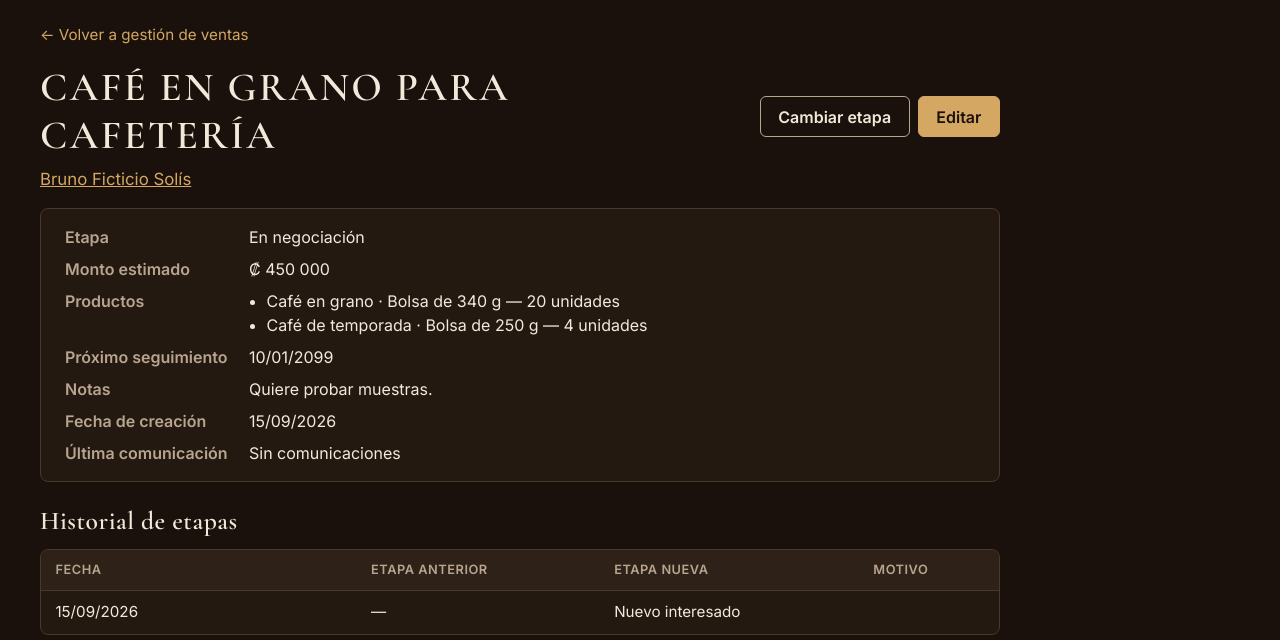
Test: HU-309 Editar una oportunidad de venta › al guardar muestra "Cambios guardados correctamente." y vuelve al detalle ya actualizado
Click the button "Editar": (959, 117) top-left (918, 96), bottom-right (1000, 137)
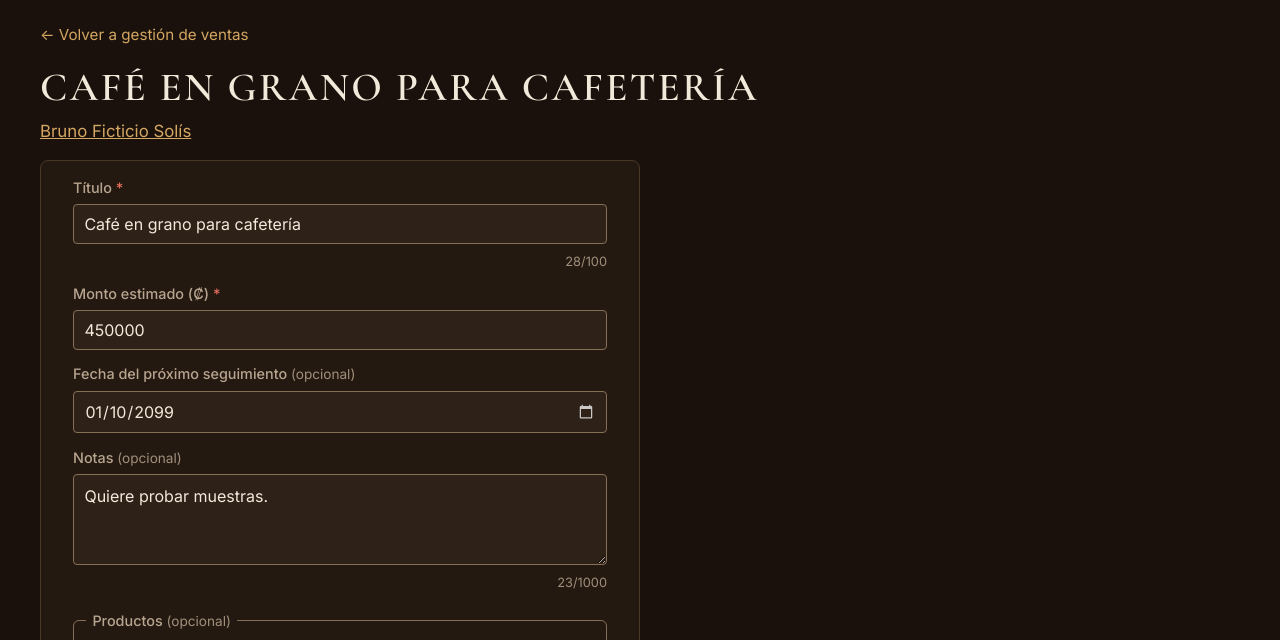
Replace the text in the field labelled "Título *" with "Título nuevo": (340, 224) top-left (73, 204), bottom-right (607, 244)
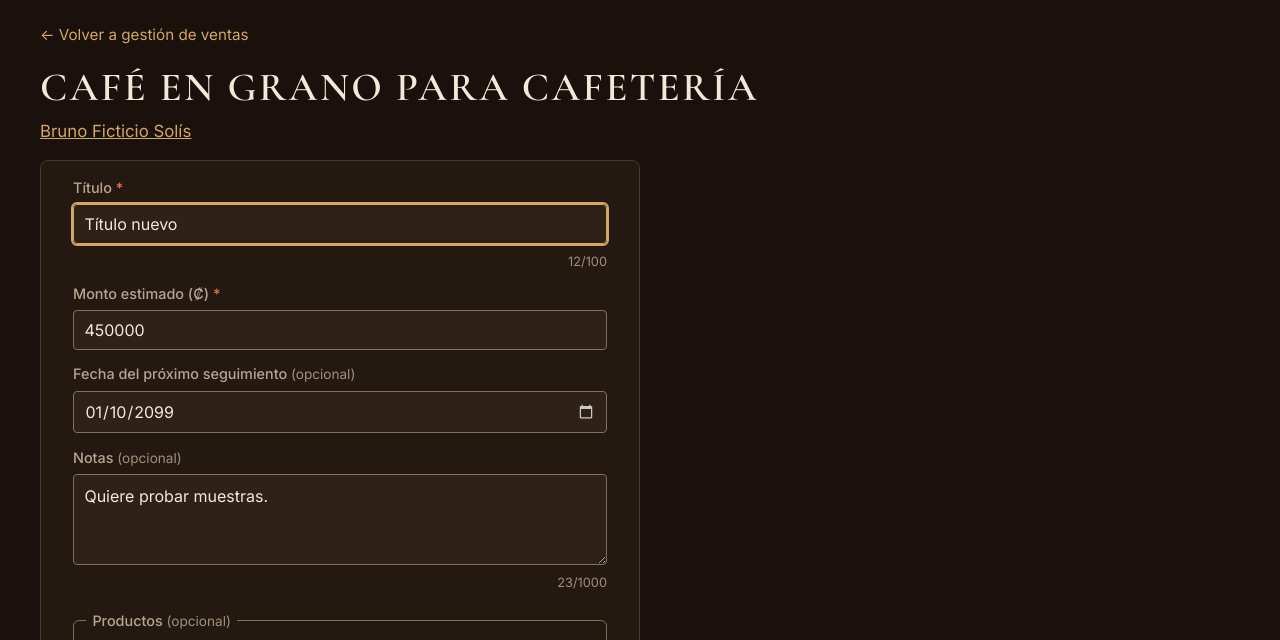
Replace the text in the field labelled "Monto estimado (₡) *" with "500000": (340, 330) top-left (73, 310), bottom-right (607, 350)
(page scrolled)
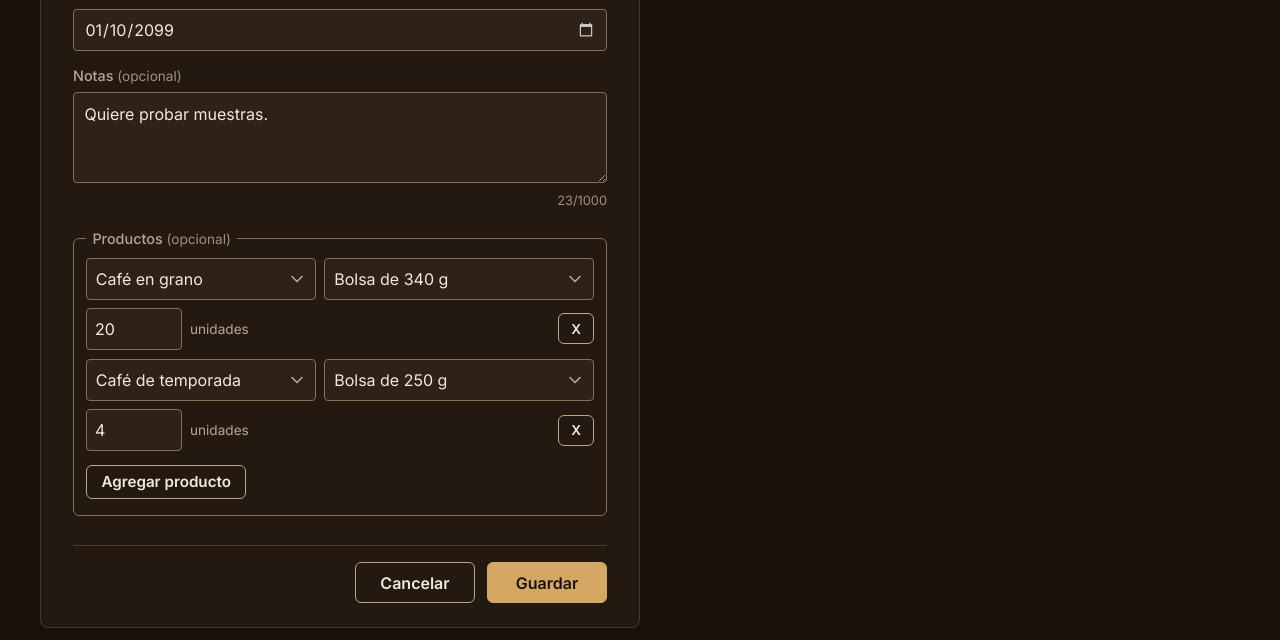
Click the button "Guardar": (547, 583) top-left (487, 562), bottom-right (607, 604)
(page scrolled)
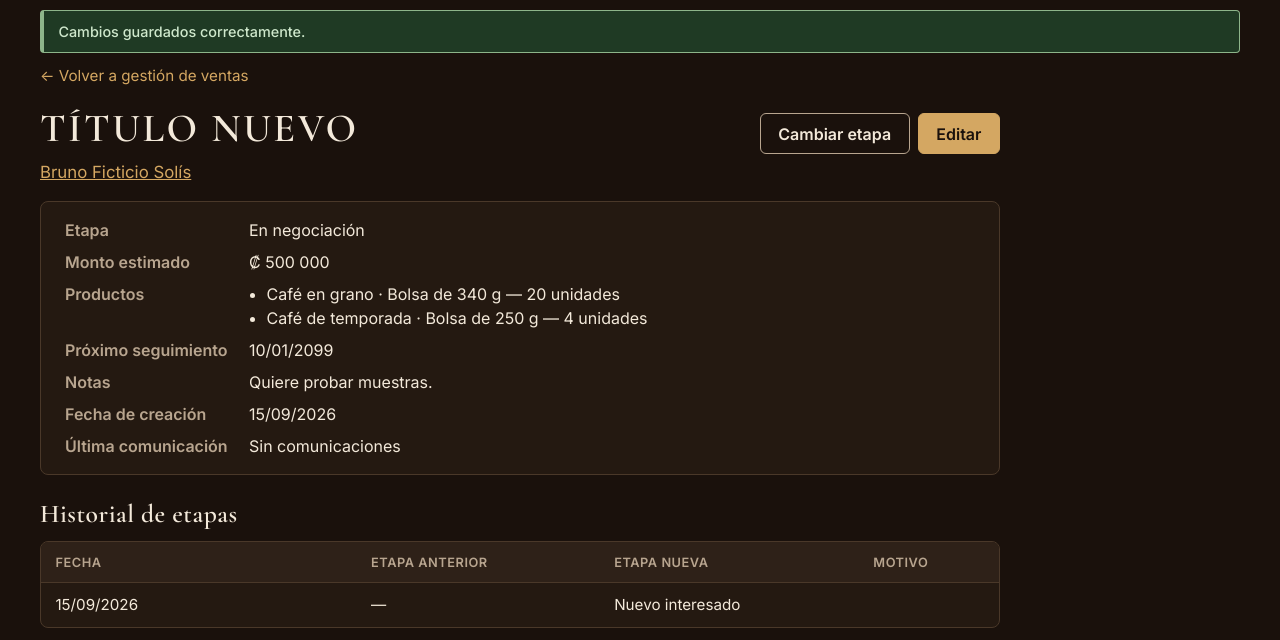
Check: the message reads "Cambios guardados correctamente.", box top-left (58, 23), bottom-right (305, 40)
Check: the heading "Título nuevo" is shown, box top-left (40, 104), bottom-right (358, 152)
Check: the button "Editar" is shown, box top-left (918, 113), bottom-right (1000, 154)
